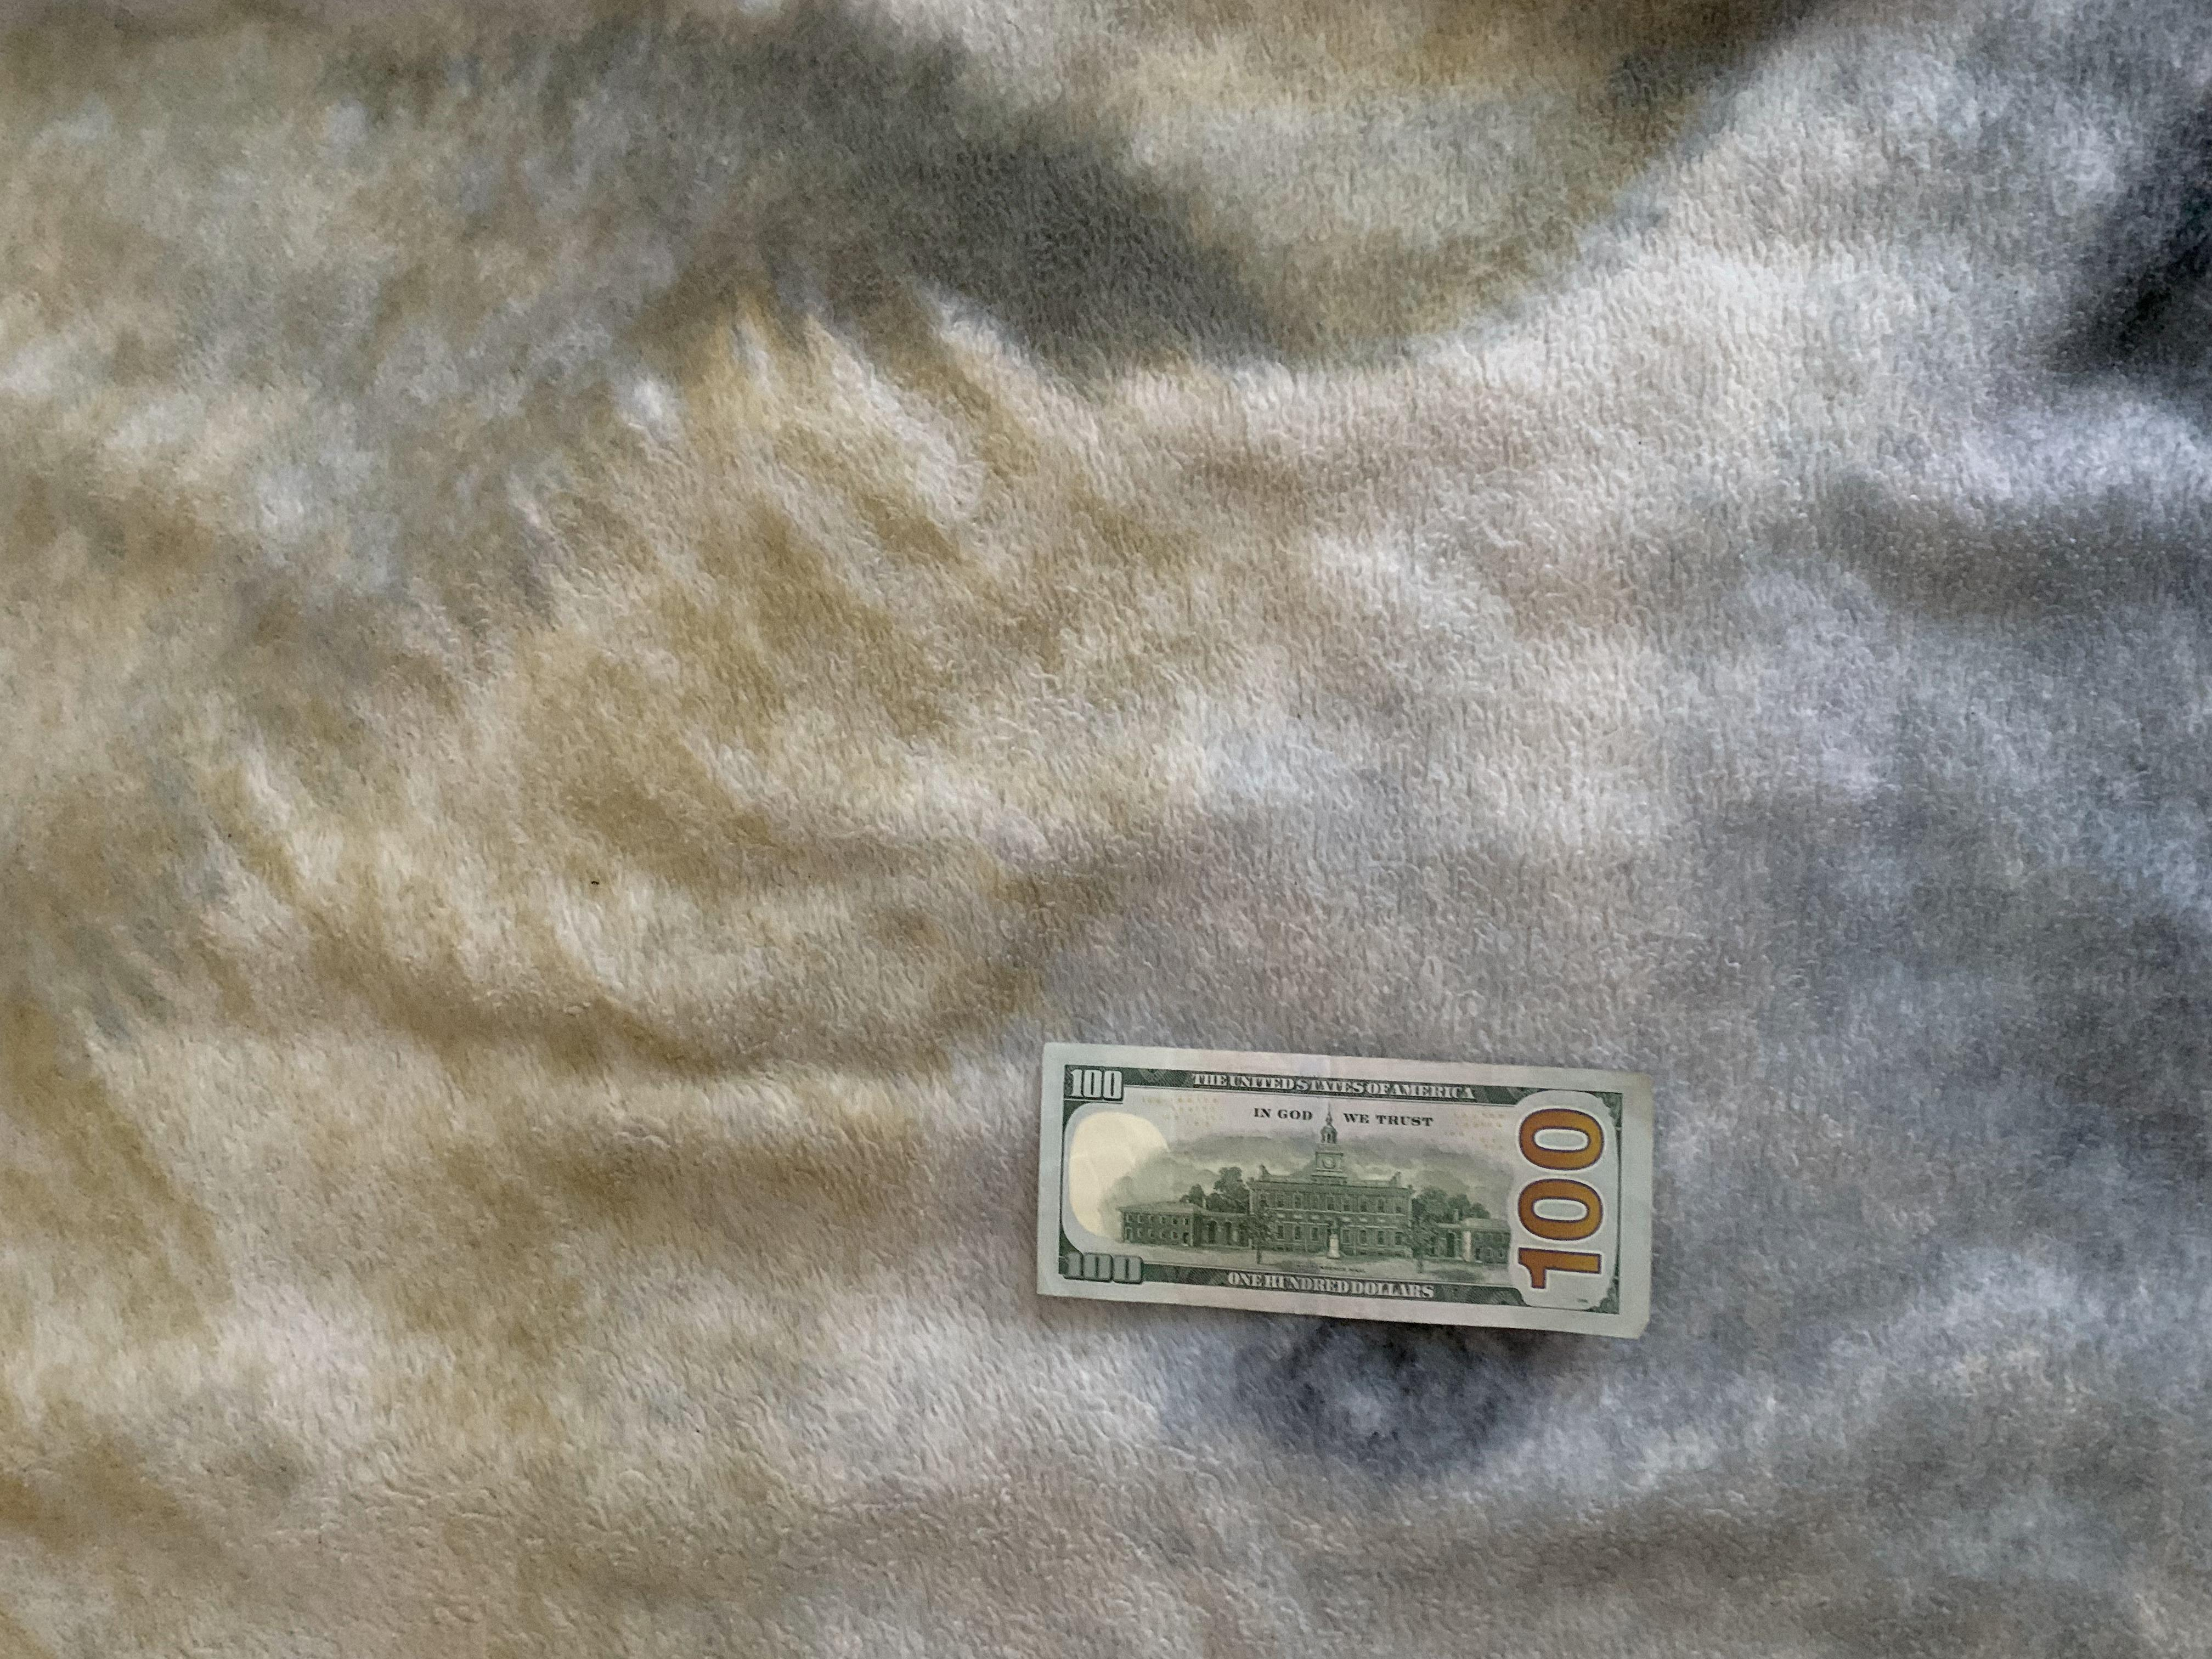HundredBill: (1035, 1042, 1663, 1337)
